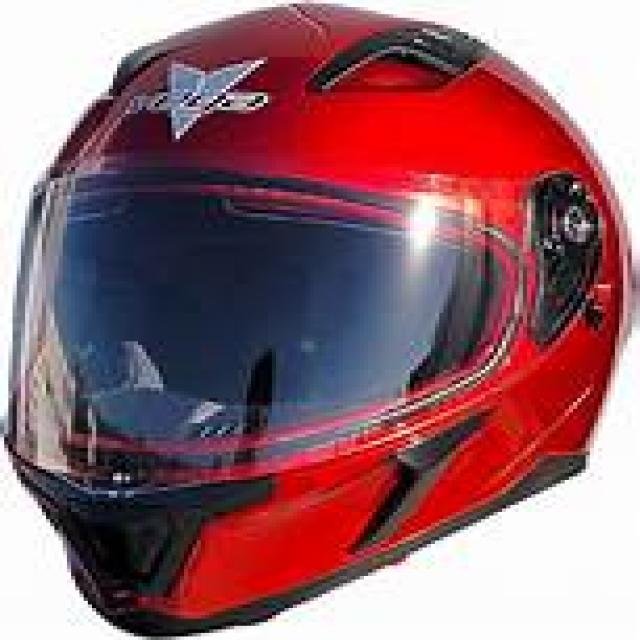helmet: (23, 0, 637, 636)
